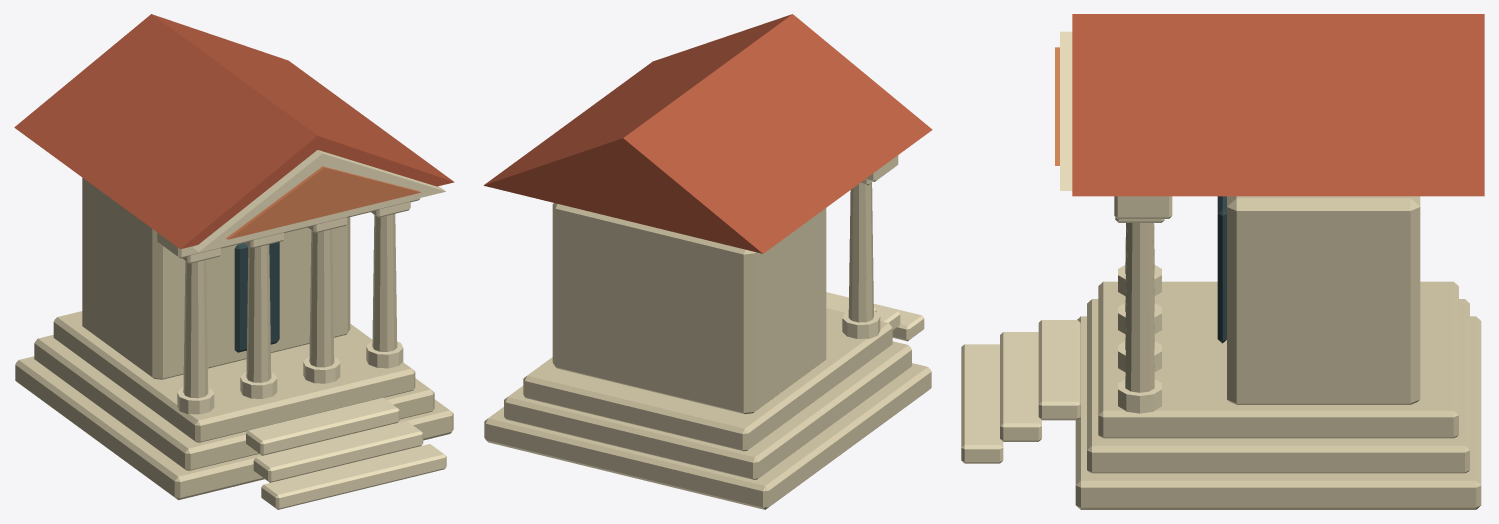
File: temple.glb
The picture shows the model from 3 angles, left to right: view 1: azimuth 30°, elevation 25°; view 2: azimuth 150°, elevation 25°; view 3: azimuth 270°, elevation 25°; orthographic projection. The views are drawn at different scales.
Parts seen in each view (by area): view 1: Pitched roof, Cube.003, Cube.002, Cube, Cube.001, Cube.012, Pitched roof.002, Pitched roof.001, Cube.011, Cube.010, Tapered form.005, Tapered form.001 (+8 smaller); view 2: Pitched roof, Cube.003, Cube, Cube.002, Cube.001, Tapered form.001, Cube.012, Tapered form; view 3: Pitched roof, Cube.003, Cube.002, Cube, Cube.001, Cube.012, Tapered form.007, Cube.011, Cube.010, Pitched roof.001, Cube.009, Cube.008 (+2 smaller).
Part boxes in pixels (left/top/right/bottom): Pitched roof: left=14, top=14, right=454, bottom=248; Cube.003: left=82, top=178, right=350, bottom=379; Cube.002: left=53, top=311, right=415, bottom=442; Cube: left=15, top=356, right=453, bottom=500; Cube.001: left=34, top=335, right=434, bottom=470; Cube.012: left=261, top=444, right=446, bottom=509; Pitched roof.002: left=226, top=166, right=420, bottom=239; Pitched roof.001: left=193, top=150, right=445, bottom=251; Cube.011: left=253, top=420, right=423, bottom=482; Cube.010: left=246, top=397, right=399, bottom=455; Tapered form.005: left=309, top=229, right=334, bottom=367; Tapered form.001: left=183, top=260, right=208, bottom=398; Pitched roof: left=483, top=14, right=932, bottom=253; Cube.003: left=552, top=203, right=826, bottom=413; Cube: left=484, top=363, right=931, bottom=509; Cube.002: left=523, top=308, right=892, bottom=451; Cube.001: left=504, top=341, right=911, bottom=479; Tapered form.001: left=848, top=183, right=873, bottom=322; Cube.012: left=826, top=292, right=924, bottom=341; Tapered form: left=842, top=311, right=880, bottom=338; Pitched roof: left=1072, top=14, right=1484, bottom=196; Cube.003: left=1227, top=196, right=1420, bottom=404; Cube.002: left=1098, top=281, right=1458, bottom=438; Cube: left=1075, top=316, right=1481, bottom=509; Cube.001: left=1087, top=299, right=1469, bottom=473; Cube.012: left=961, top=344, right=1003, bottom=463; Tapered form.007: left=1125, top=223, right=1154, bottom=392; Cube.011: left=1000, top=332, right=1041, bottom=441; Cube.010: left=1038, top=320, right=1080, bottom=420; Pitched roof.001: left=1060, top=31, right=1072, bottom=190; Cube.009: left=1217, top=196, right=1226, bottom=343; Cube.008: left=1114, top=196, right=1172, bottom=218.
Size of the model in its own units: 0.62 by 0.709 by 0.8125.
